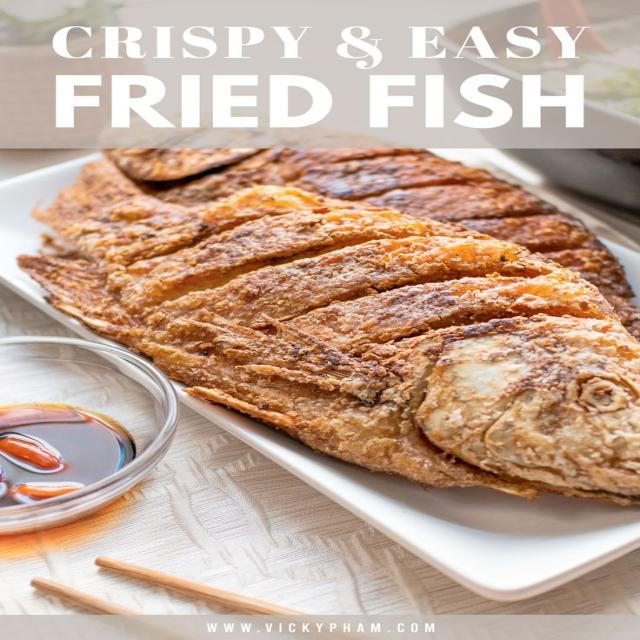Peixe: (15, 147, 638, 506), (407, 313, 638, 506)
